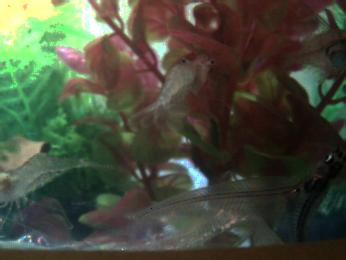X-ray fish: (283, 15, 346, 78)
glassfish: (126, 172, 328, 229)
siberian prawn: (2, 150, 113, 209), (140, 49, 216, 125)
